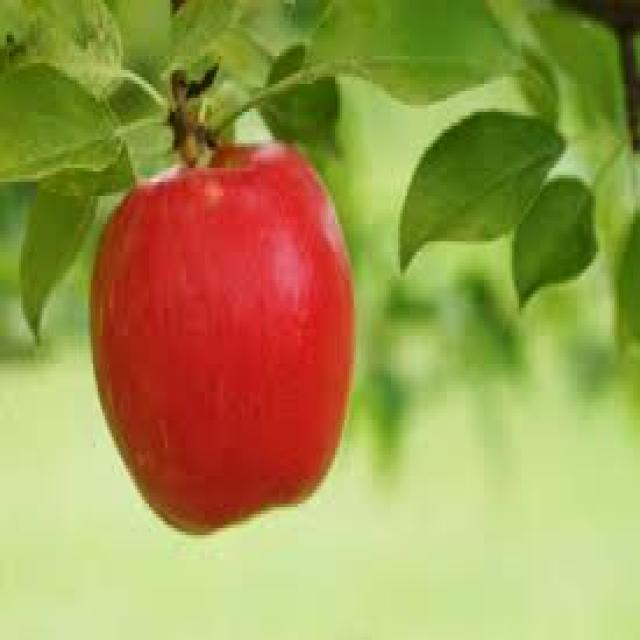apple: (82, 134, 370, 544)
